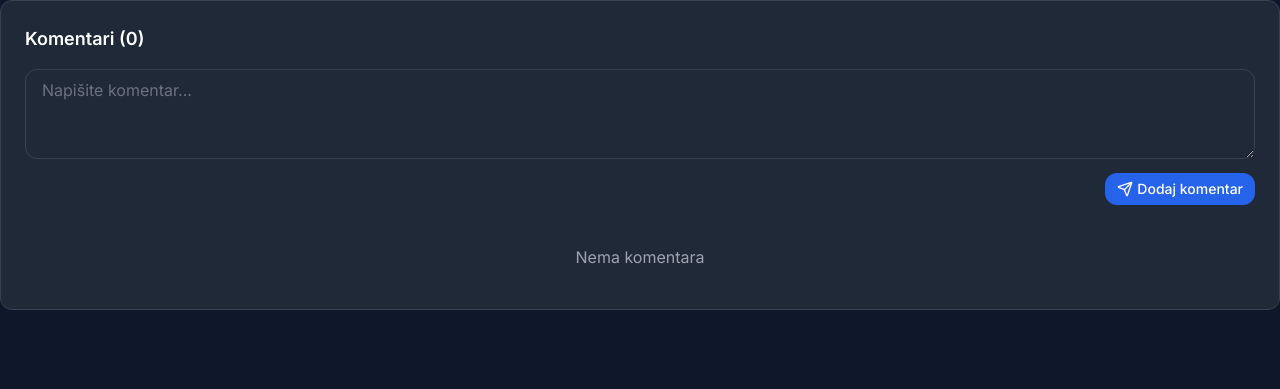
Test: TicketComments › should display error when comment submission fails
In the text box with placeholder "Napišite komentar...": (640, 114) [25,69,1255,159], type "Test"
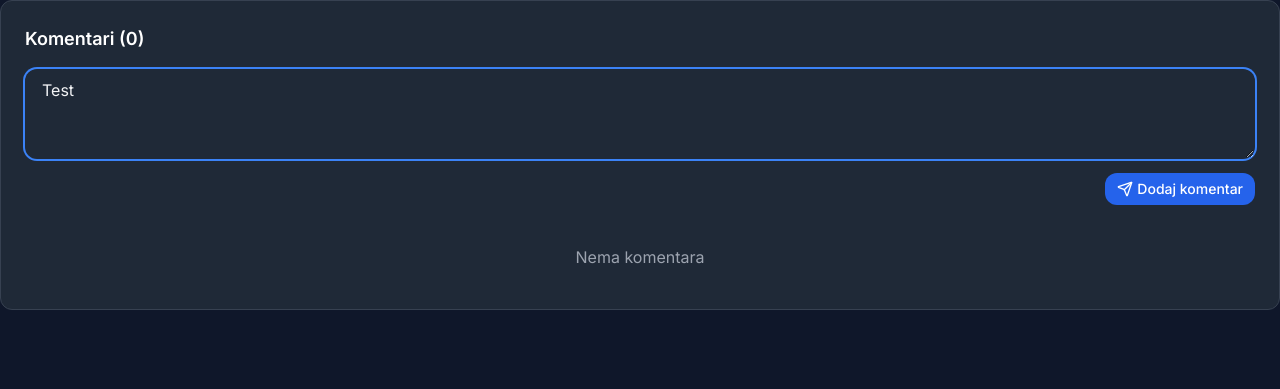
Click the button "Dodaj komentar": click(1180, 189) [1105,173,1255,205]
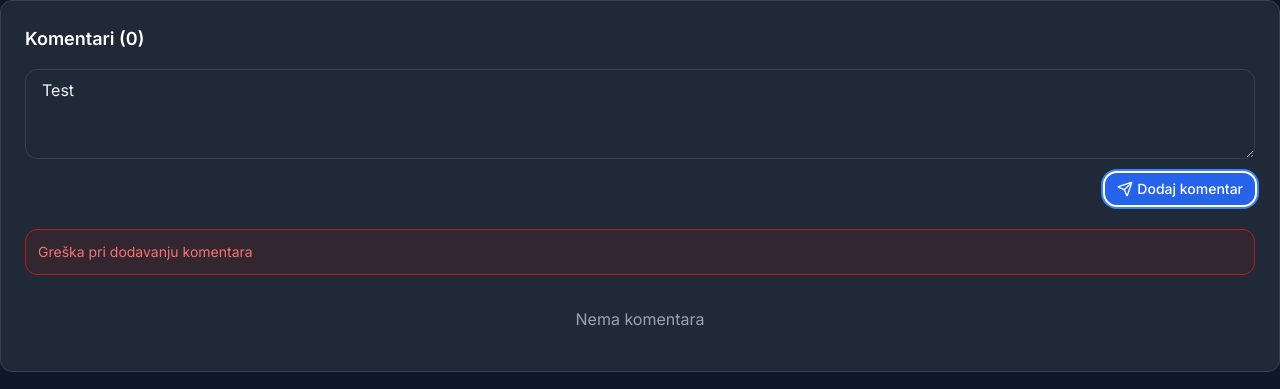
Result: the text "Greška pri dodavanju komentara" is shown at [25,229,1255,275]
